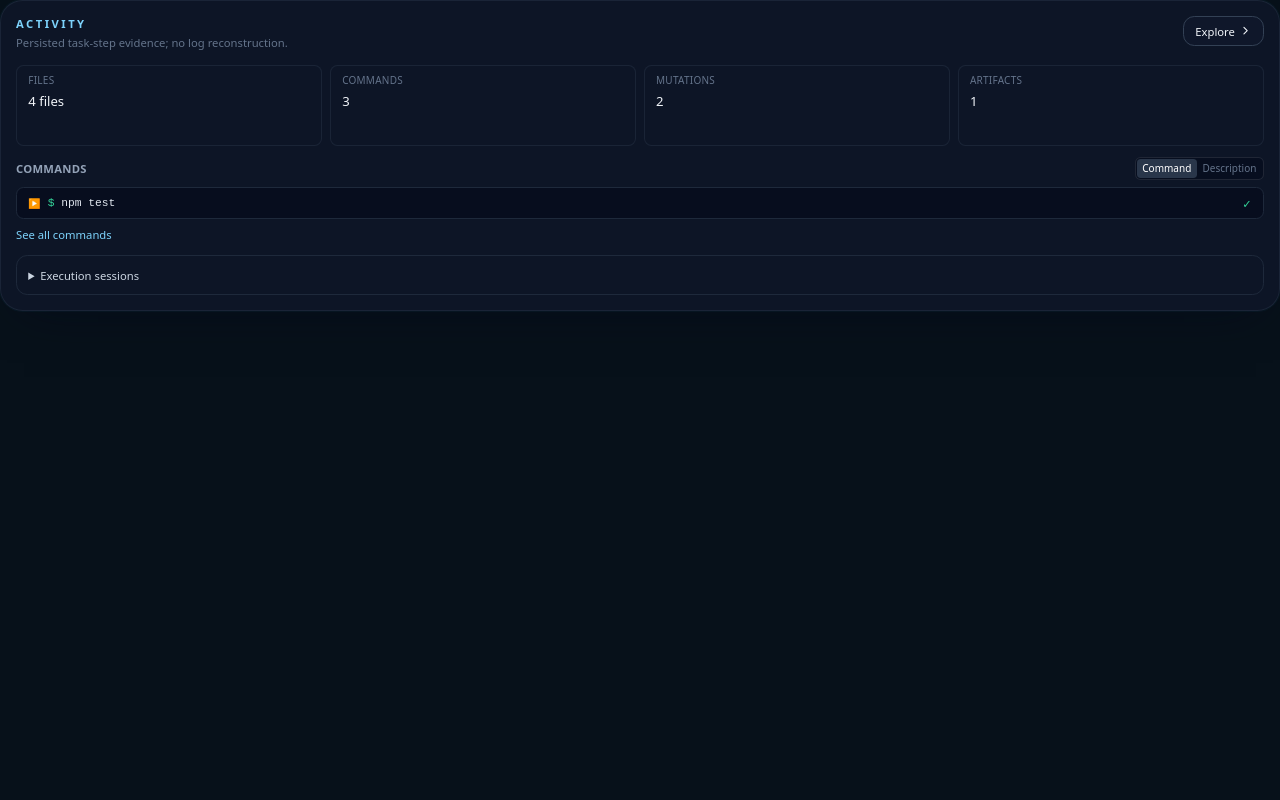
Test: TaskWorkPanel › reuses activity summary, recent activity, and execution tree with one overview request
Check: the element titled "npm test" is shown, box 48,196 -> 115,208
What coordinates should you click on to do the following:
click the button "Description"
I would click on:
 (1229, 168)
Its box is 1197,159 -> 1262,178.
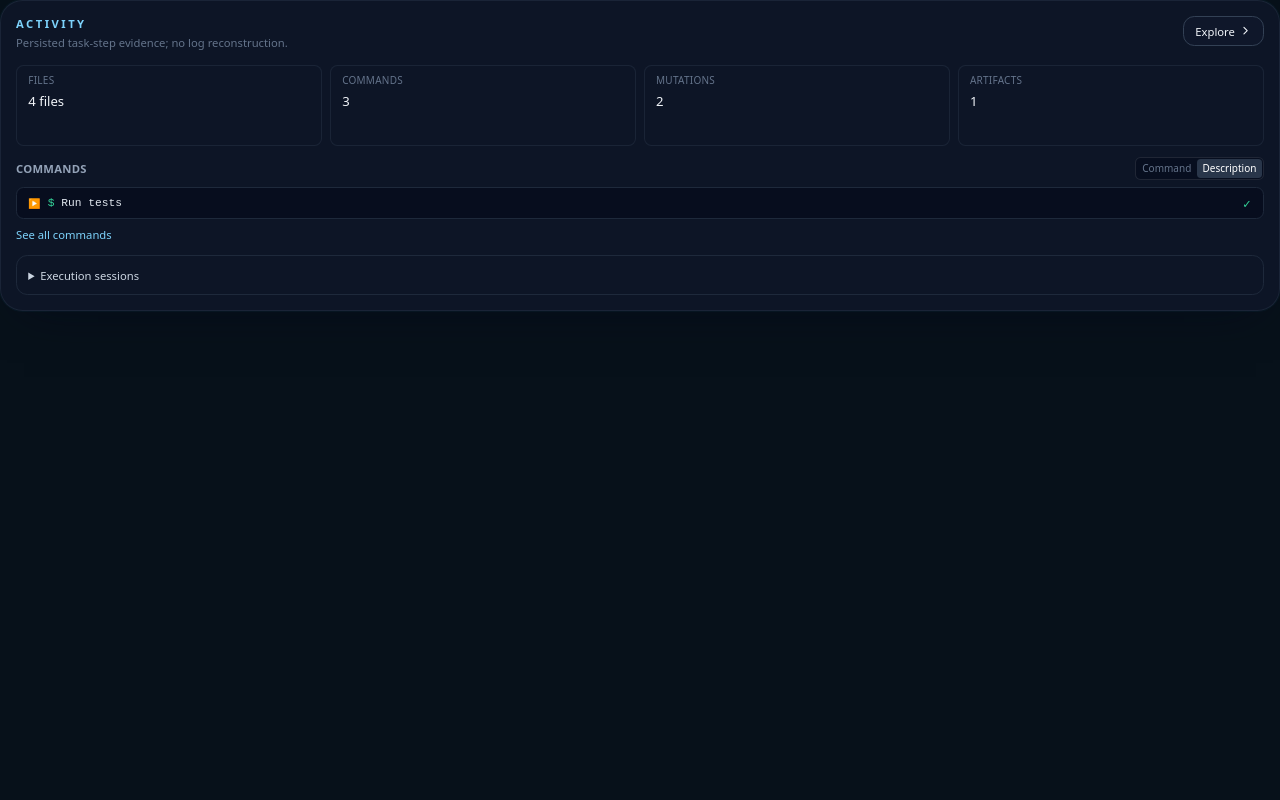
Check: the heading "Execution sessions" is shown, box 40,268 -> 139,282
Check: the element titled "Run tests" is shown, box 48,196 -> 122,208
